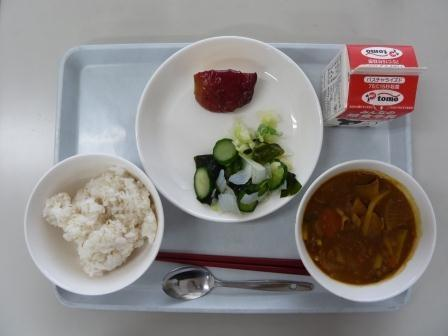Apple: (181, 63, 262, 115)
Curry: (297, 167, 439, 297)
Milk: (318, 34, 428, 137)
Rice: (28, 155, 162, 291)
Salad: (184, 122, 303, 219)
